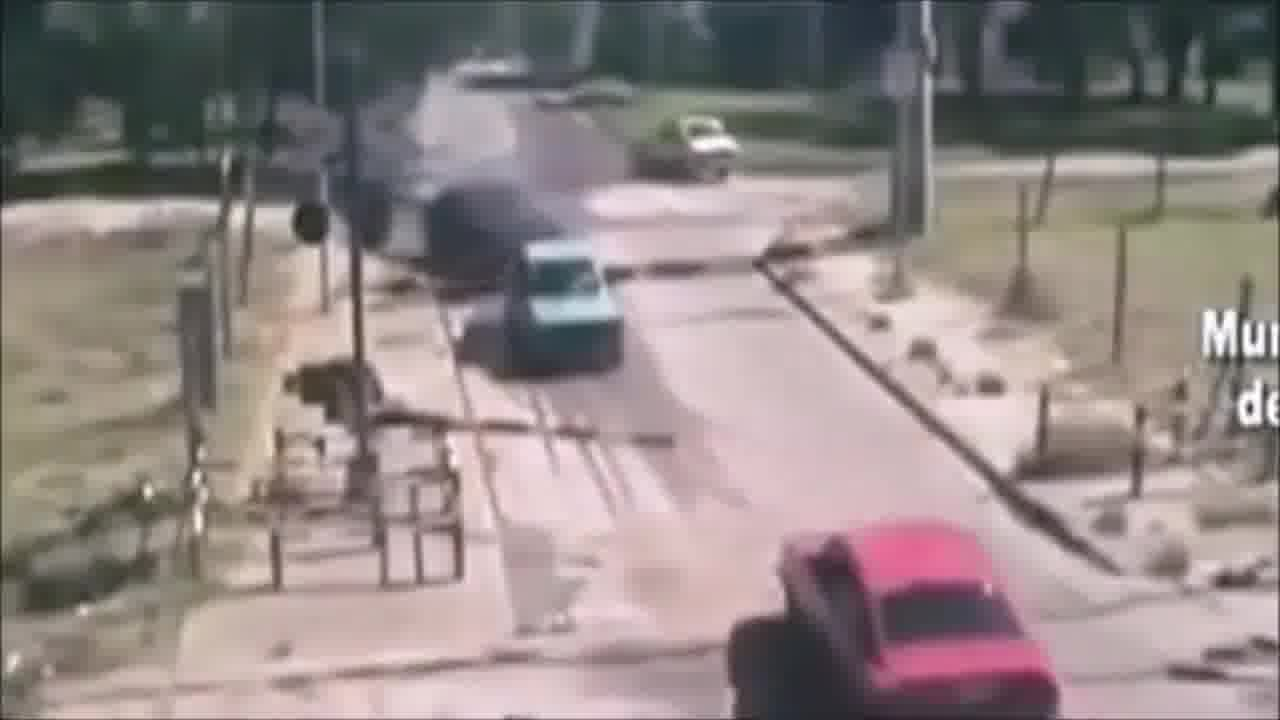crossing railway track: (703, 483, 1123, 720)
